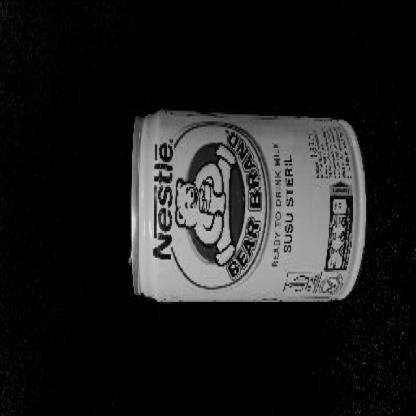alumunium_can: (130, 108, 368, 302)
